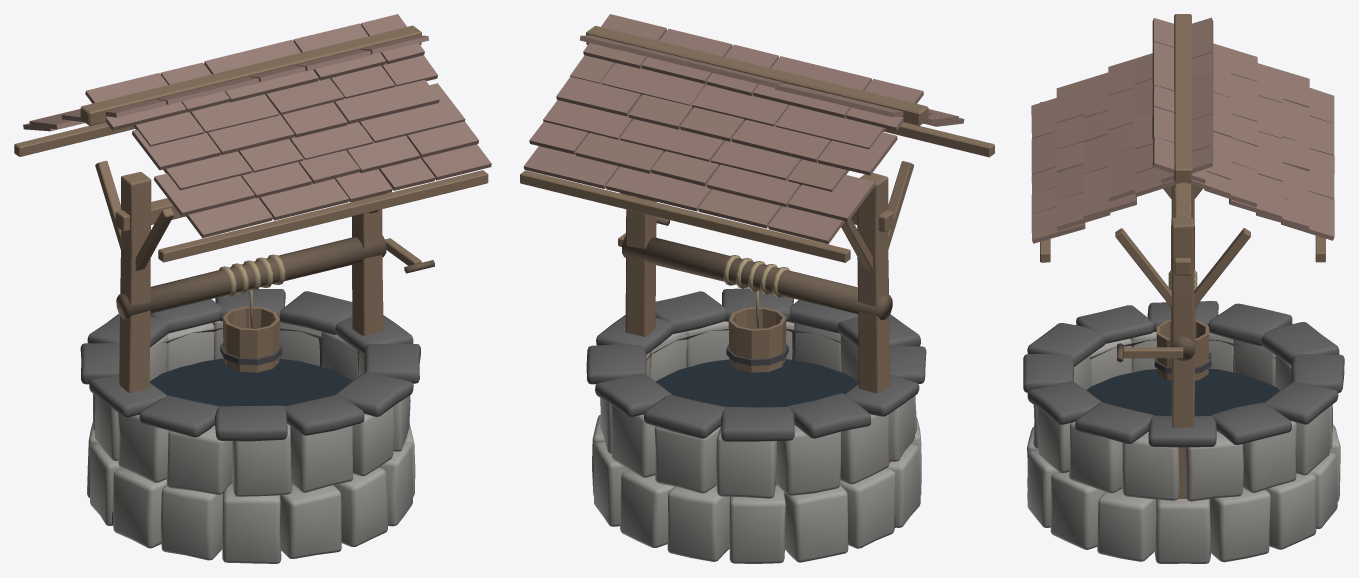
Rendered from well.glb.
3 renders of one model, left to right at view 1: azimuth 30°, elevation 25°; view 2: azimuth 150°, elevation 25°; view 3: azimuth 270°, elevation 25°, orthographic. The views are drawn at different scales.
Visible parts, largest first — view 1: well; view 2: well; view 3: well.
Boxes of the visible parts, <box> form: well: <box>14,14,491,563</box>; well: <box>520,14,994,563</box>; well: <box>1023,14,1344,563</box>.
Size of the model in its own units: 2.46 by 3.05 by 2.15.
